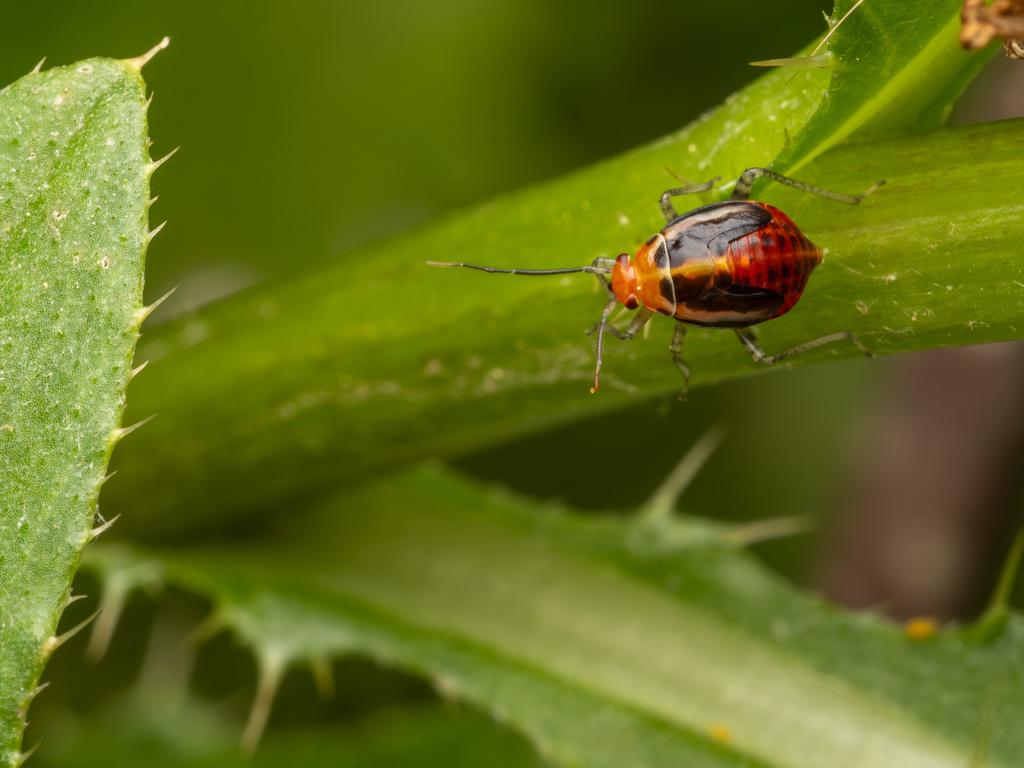plant_bugs: (394, 124, 943, 427)
